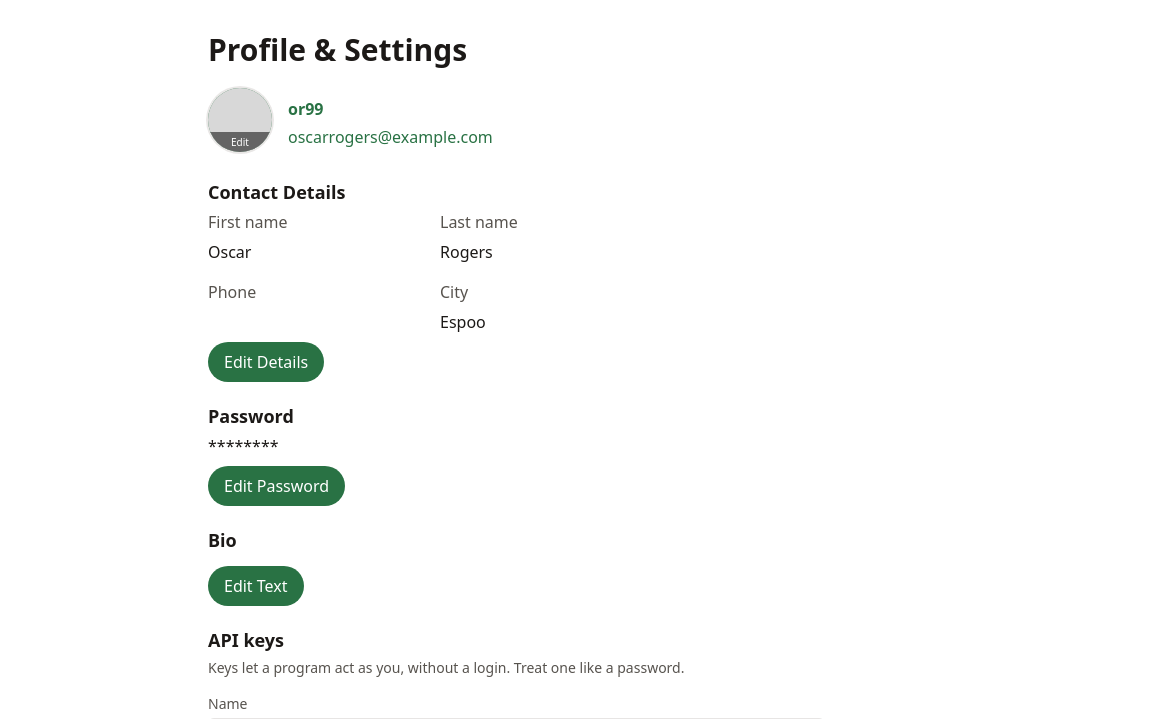
a rejected removal surfaces the reason
Click the button with aria-label "Edit profile picture". click: (240, 120)
box: x1=208 y1=88 x2=272 y2=152
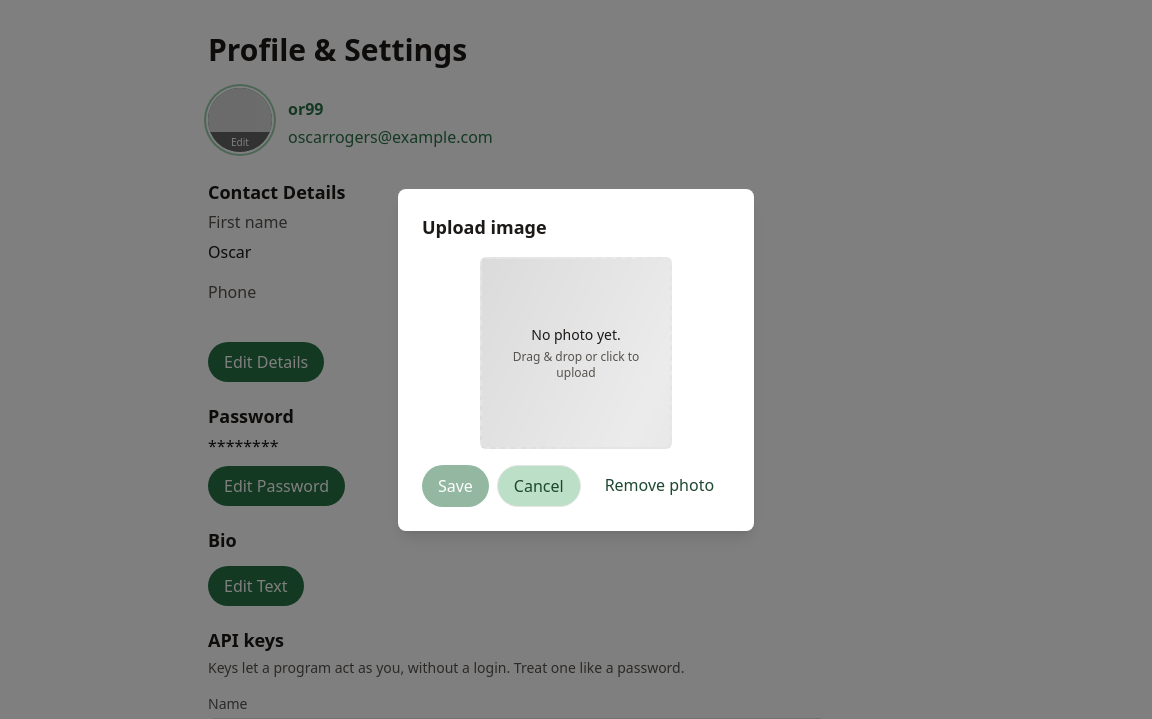
Click the button "Remove photo". click: (659, 485)
box: x1=589 y1=465 x2=730 y2=505
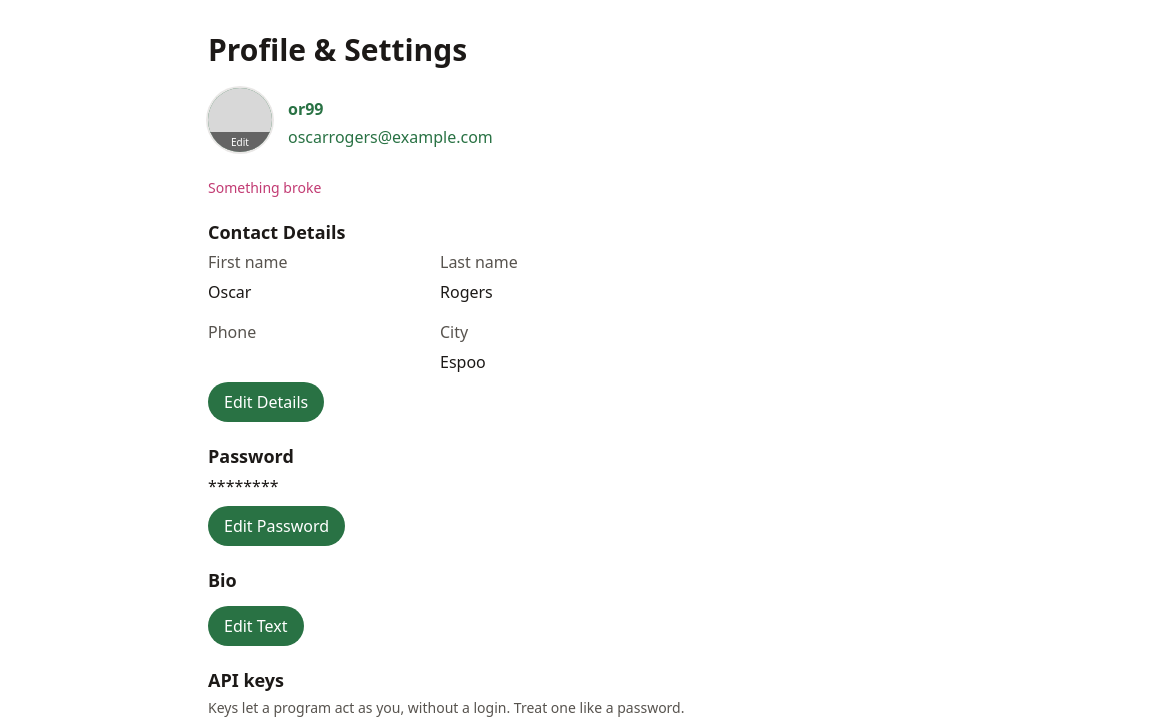
Result: the message reads "Something broke" at x1=208 y1=178 x2=321 y2=197
